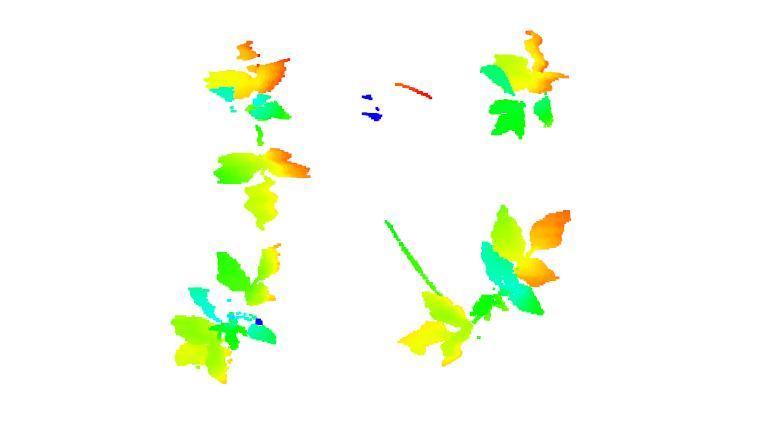mungbean: (396, 196, 581, 364), (203, 38, 318, 232), (164, 240, 294, 386), (480, 23, 573, 139)
